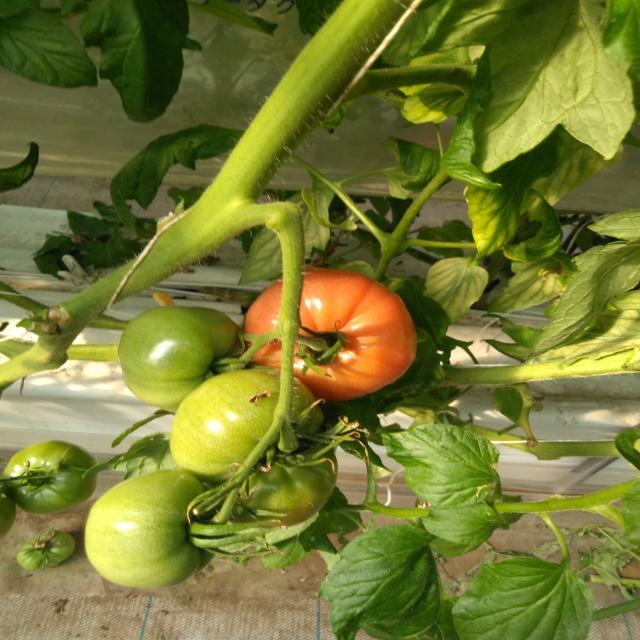n-half-riped: (244, 268, 417, 402)
n-unriped: (170, 367, 337, 530), (84, 470, 224, 590), (116, 306, 254, 414), (1, 440, 98, 516), (16, 530, 76, 570)
